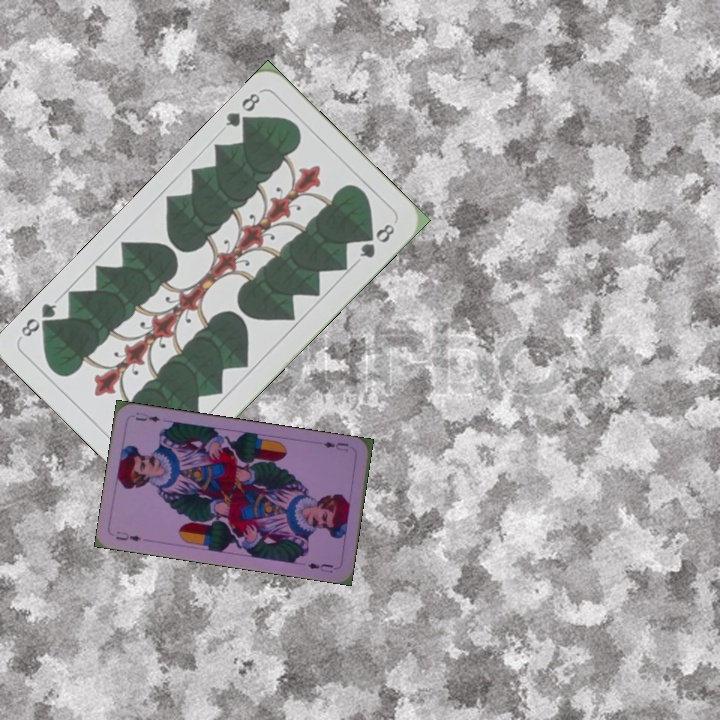EU: (315, 437, 351, 454), (112, 527, 143, 544)
G8: (221, 88, 263, 133)
